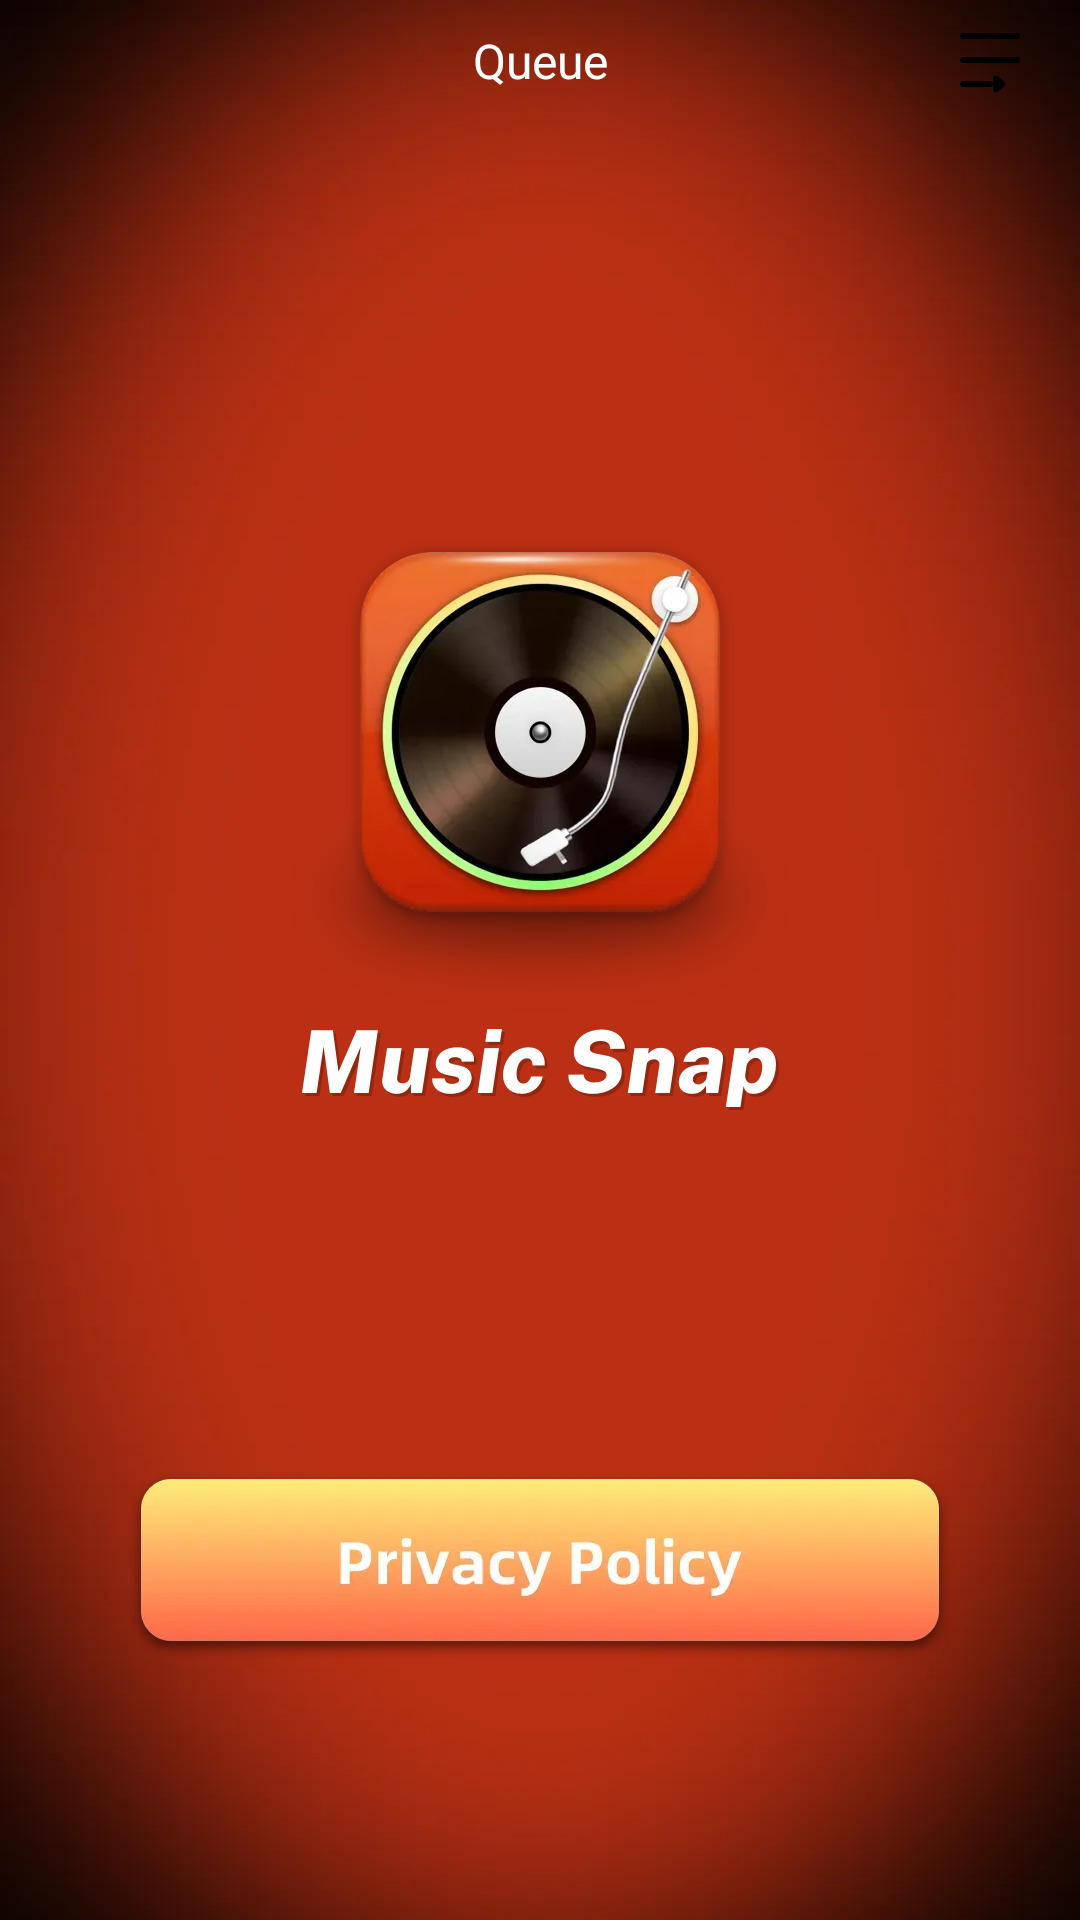

Icon click points for this 1080×1920 phone screenshot, format (x,y):
player lists: (990,62)
